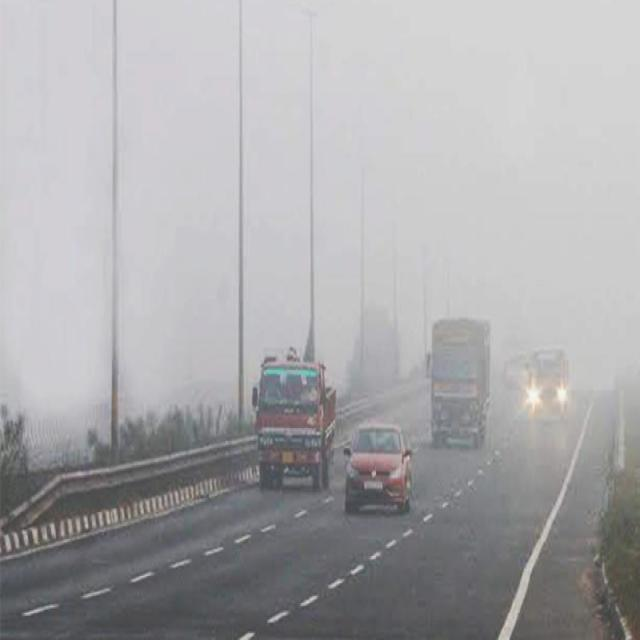bus: (250, 352, 336, 493), (428, 313, 490, 451), (529, 348, 570, 422)
car: (342, 420, 416, 516), (505, 348, 530, 389)
